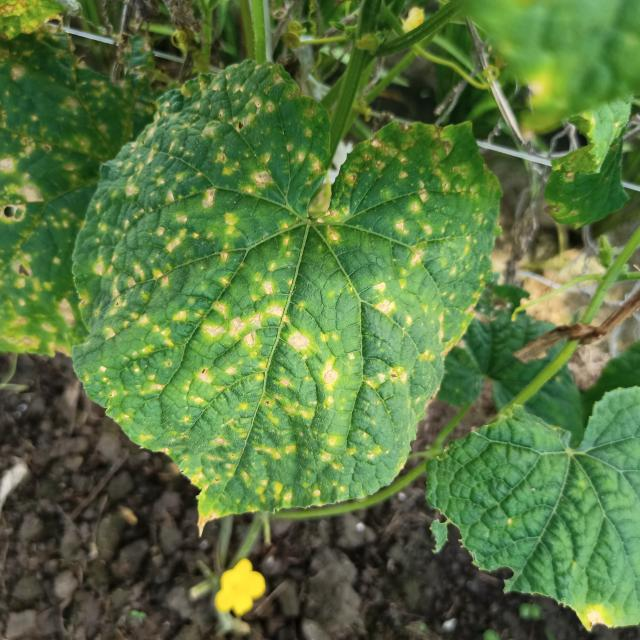disease_cucumber: (77, 60, 490, 516), (0, 29, 130, 355)
